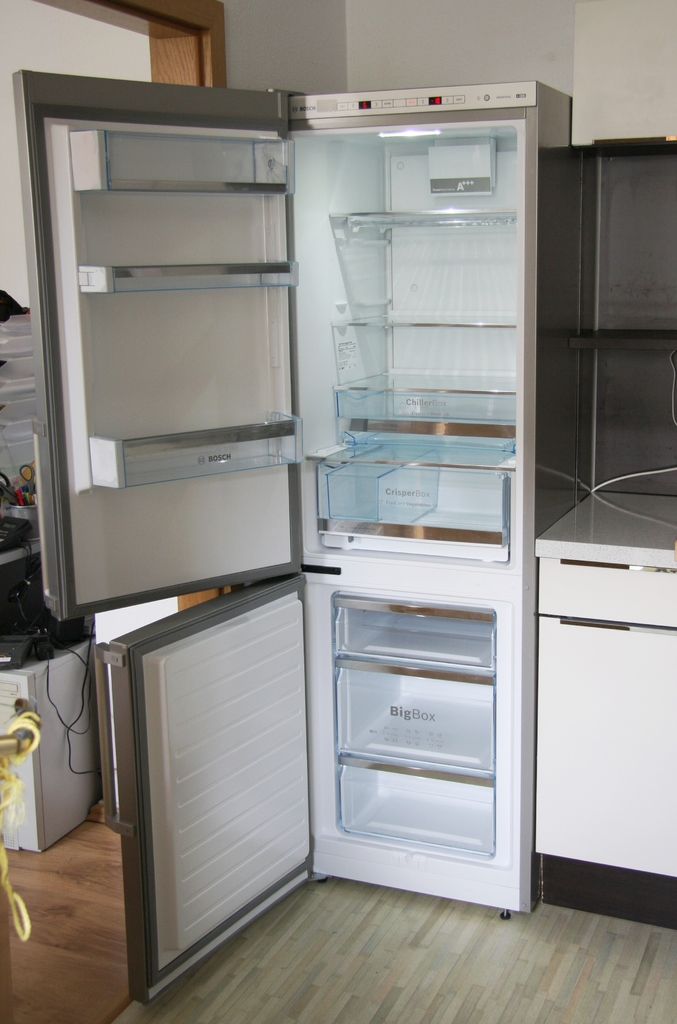cabinet door: (540, 616, 677, 852), (540, 555, 677, 623)
handle: (89, 641, 134, 826), (562, 542, 677, 604), (28, 421, 59, 616), (560, 606, 677, 647)
refrigerator door: (35, 82, 288, 563), (109, 636, 311, 886)
